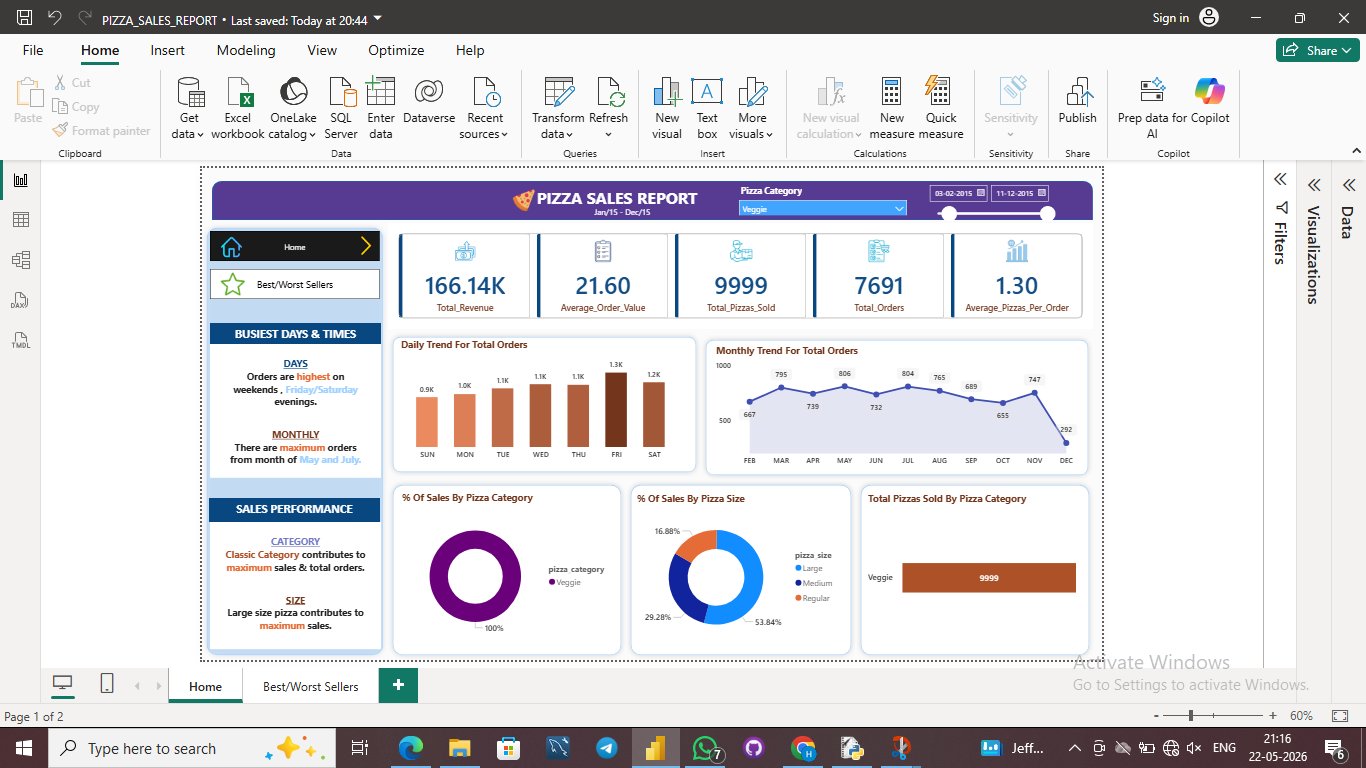

What the dashboard file says about the page in this screenshot:
{"tool":"powerbi","page":{"name":"Home","canvas":[1500,820],"ordinal":0},"visuals":[{"type":"shape","box":[0,91.7,310,728.3],"z":0},{"type":"cardVisual","fields":{"Data":["pizza_db pizza_sales.Total_Revenue","pizza_db pizza_sales.Average_Order_Value","pizza_db pizza_sales.Total_Pizzas_Sold","pizza_db pizza_sales.Total_Orders","pizza_db pizza_sales.Average_Pizzas_Per_Order"]},"box":[310,91.7,1175,176.7],"z":1000},{"type":"shape","box":[16.7,21.7,1468.3,65],"z":2000},{"type":"textbox","box":[551.7,26.7,280,56.7],"z":3000},{"type":"textbox","box":[641.7,60,128.3,45],"z":4000},{"type":"image","box":[508.3,35,56.7,38.3],"z":5000},{"type":"shape","box":[310,273.3,521.7,241.7],"z":6000},{"type":"columnChart","title":"Daily Trend For Total Orders","fields":{"Category":["pizza_db pizza_sales.Order_Day"],"Y":["pizza_db pizza_sales.Total_Orders"]},"box":[326.7,283.3,476.7,211.7],"z":7000},{"type":"shape","box":[831.7,278.3,653.3,241.7],"z":8000},{"type":"areaChart","title":"Monthly Trend For Total Orders","fields":{"Category":["pizza_db pizza_sales.Order_Month"],"Y":["pizza_db pizza_sales.Total_Orders"]},"box":[851.7,293.3,615,211.7],"z":9000},{"type":"shape","box":[706.7,520,383.3,300],"z":10000},{"type":"shape","box":[1090,520,396.7,300],"z":11000},{"type":"shape","box":[310,520,396.7,300],"z":12000},{"type":"donutChart","title":"% Of Sales By Pizza Category","fields":{"Category":["pizza_db pizza_sales.pizza_category"],"Y":["pizza_db pizza_sales.Total_Revenue"]},"box":[328.3,538.3,363.3,263.3],"z":13000},{"type":"donutChart","title":"% Of Sales By Pizza Size","fields":{"Y":["pizza_db pizza_sales.Total_Revenue"],"Category":["pizza_db pizza_sales.pizza_size"]},"box":[720,540,353.3,263.3],"z":14000},{"type":"funnel","title":"Total Pizzas Sold By Pizza Category","fields":{"Category":["pizza_db pizza_sales.pizza_category"],"Y":["pizza_db pizza_sales.Total_Pizzas_Sold"]},"box":[1105,540,361.7,263.3],"z":15000},{"type":"textbox","box":[13.3,258.3,285,40],"z":16000},{"type":"textbox","box":[13.3,293.3,285,223],"z":17000},{"type":"textbox","box":[13.3,590,285,211.7],"z":18000},{"type":"textbox","box":[11.7,550,285,40],"z":19000},{"type":"slicer","title":"Pizza Category","fields":{"Values":["pizza_db pizza_sales.pizza_category"]},"box":[885,21.7,300,56.7],"z":20000},{"type":"slicer","title":"Pizza Category","fields":{"Values":["pizza_db pizza_sales.order_date"]},"box":[1200,18.3,241.7,83.3],"z":21000},{"type":"pageNavigator","box":[13.3,105,283.3,50],"z":22000},{"type":"pageNavigator","box":[13.3,168.3,283.3,50],"z":23000},{"type":"image","box":[250,113.3,46.7,31.7],"z":24000},{"type":"image","box":[31.7,108.3,35,46.7],"z":25000},{"type":"image","box":[13.3,173.3,75,40],"z":26000}]}

Visuals, with their boxes on the page's 1500x820 design canvas (x1, y1, x2, y2). These are canvas units, not pixel positions in the 1366x768 screenshot, which may show the page scaled, cropped or inside an application window:
shape: box(0, 92, 310, 820)
cardVisual - pizza_db pizza_sales.Total_Revenue x pizza_db pizza_sales.Average_Order_Value: box(310, 92, 1485, 268)
shape: box(17, 22, 1485, 87)
textbox: box(552, 27, 832, 83)
textbox: box(642, 60, 770, 105)
image: box(508, 35, 565, 73)
shape: box(310, 273, 832, 515)
"Daily Trend For Total Orders" columnChart: box(327, 283, 803, 495)
shape: box(832, 278, 1485, 520)
"Monthly Trend For Total Orders" areaChart: box(852, 293, 1467, 505)
shape: box(707, 520, 1090, 820)
shape: box(1090, 520, 1487, 820)
shape: box(310, 520, 707, 820)
"% Of Sales By Pizza Category" donutChart: box(328, 538, 692, 802)
"% Of Sales By Pizza Size" donutChart: box(720, 540, 1073, 803)
"Total Pizzas Sold By Pizza Category" funnel: box(1105, 540, 1467, 803)
textbox: box(13, 258, 298, 298)
textbox: box(13, 293, 298, 516)
textbox: box(13, 590, 298, 802)
textbox: box(12, 550, 297, 590)
"Pizza Category" slicer: box(885, 22, 1185, 78)
"Pizza Category" slicer: box(1200, 18, 1442, 102)
pageNavigator: box(13, 105, 297, 155)
pageNavigator: box(13, 168, 297, 218)
image: box(250, 113, 297, 145)
image: box(32, 108, 67, 155)
image: box(13, 173, 88, 213)
